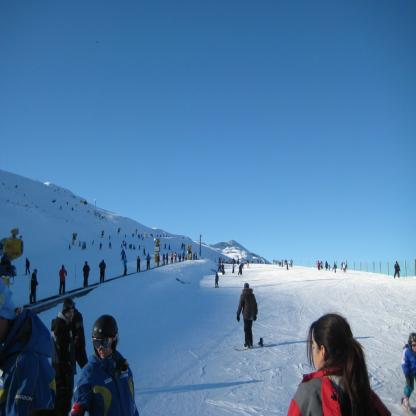Helmet: (89, 317, 119, 361)
